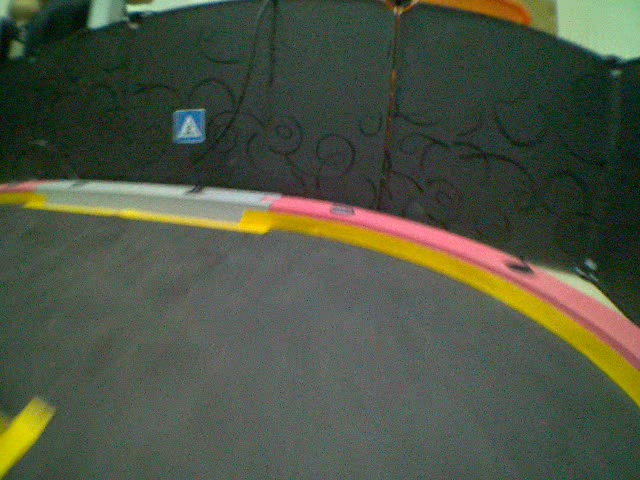crossing: (171, 106, 208, 147)
